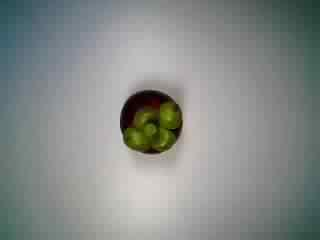mangosteen: (114, 86, 184, 156)
